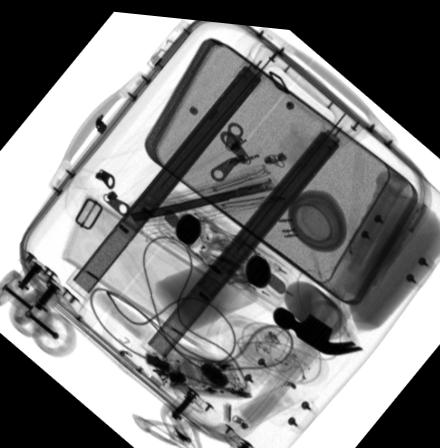Hammer: (271, 161, 408, 349)
